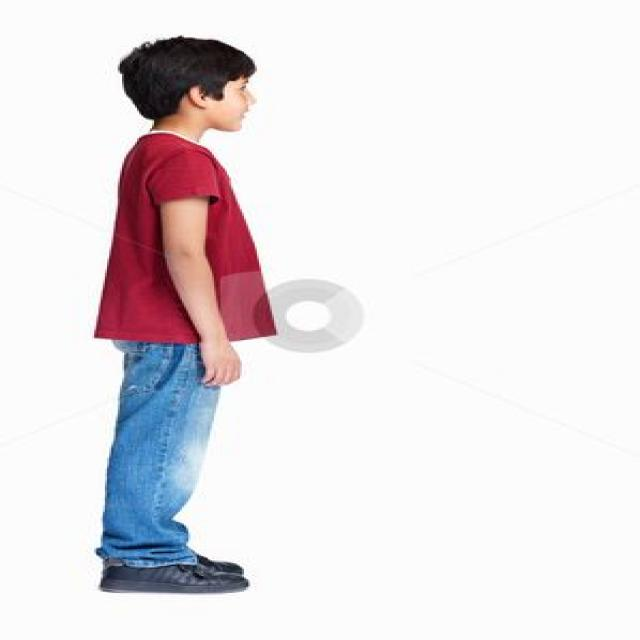child: (73, 31, 289, 616)
